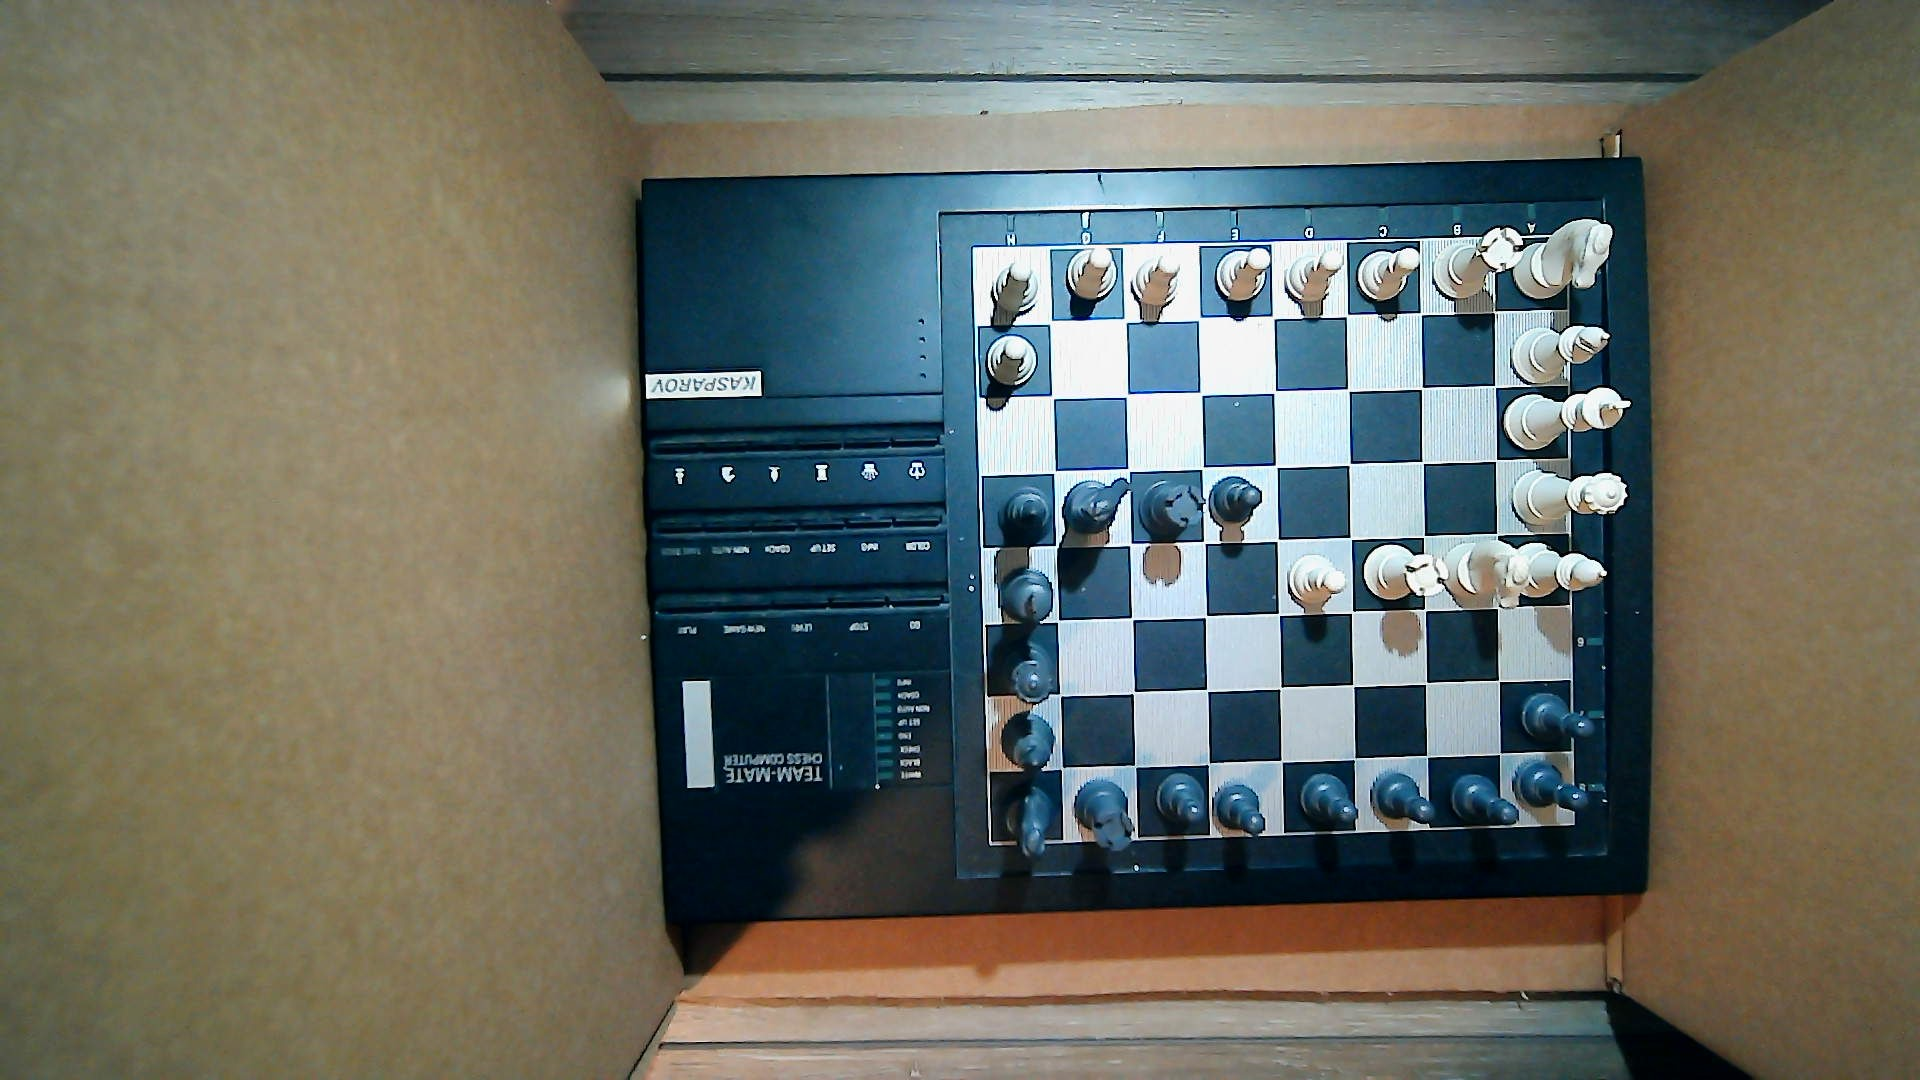bbishop: (998, 712, 1055, 774), (997, 487, 1052, 539)
bking: (998, 568, 1055, 626)
bknight: (1064, 477, 1129, 539), (1004, 785, 1056, 858)
bpawn: (1448, 771, 1519, 829), (1522, 694, 1596, 746), (1514, 758, 1588, 810), (1298, 771, 1360, 827), (1371, 773, 1435, 825), (1215, 785, 1267, 839), (1156, 771, 1208, 825), (1212, 477, 1265, 522)
bqueen: (994, 640, 1062, 705)
brook: (1072, 781, 1135, 852), (1138, 477, 1203, 538)
wbishop: (1509, 324, 1610, 384), (1518, 541, 1607, 599)
wking: (1503, 386, 1631, 450)
wknight: (1444, 539, 1532, 609)
wpawn: (1357, 247, 1422, 301), (1286, 553, 1348, 607), (1286, 251, 1345, 305), (984, 332, 1040, 385), (1215, 248, 1269, 302), (1131, 256, 1185, 307), (992, 260, 1043, 311), (1067, 247, 1117, 299)
wqueen: (1510, 468, 1629, 525)
wrook: (1431, 225, 1523, 299), (1362, 545, 1451, 604)
